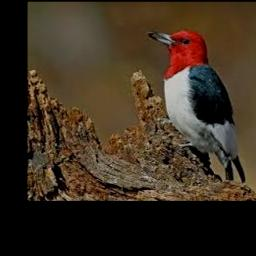Woodpecker: (148, 30, 246, 184)
